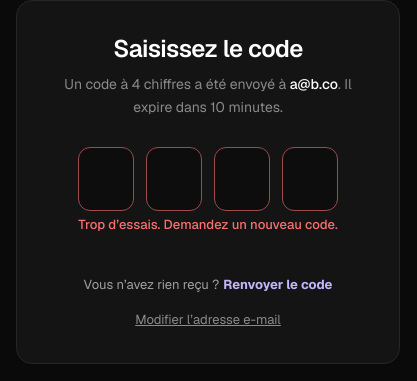
it: OtpVerification › resend clears the boxes, unlocks and restarts the countdown with the server value
Expected: the message "Trop d’essais. Demandez un nouveau code." is shown, 78,216 -> 338,232
Click the button "Vous n’avez rien reçu ? Renvoyer le code".
click(208, 284)  # box 68,262 -> 348,306
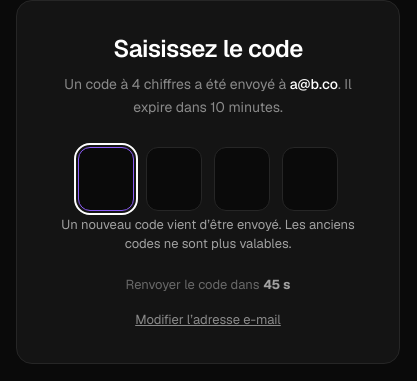
Expected: the button "Renvoyer le code dans 45 s" is disabled, 110,262 -> 306,306
